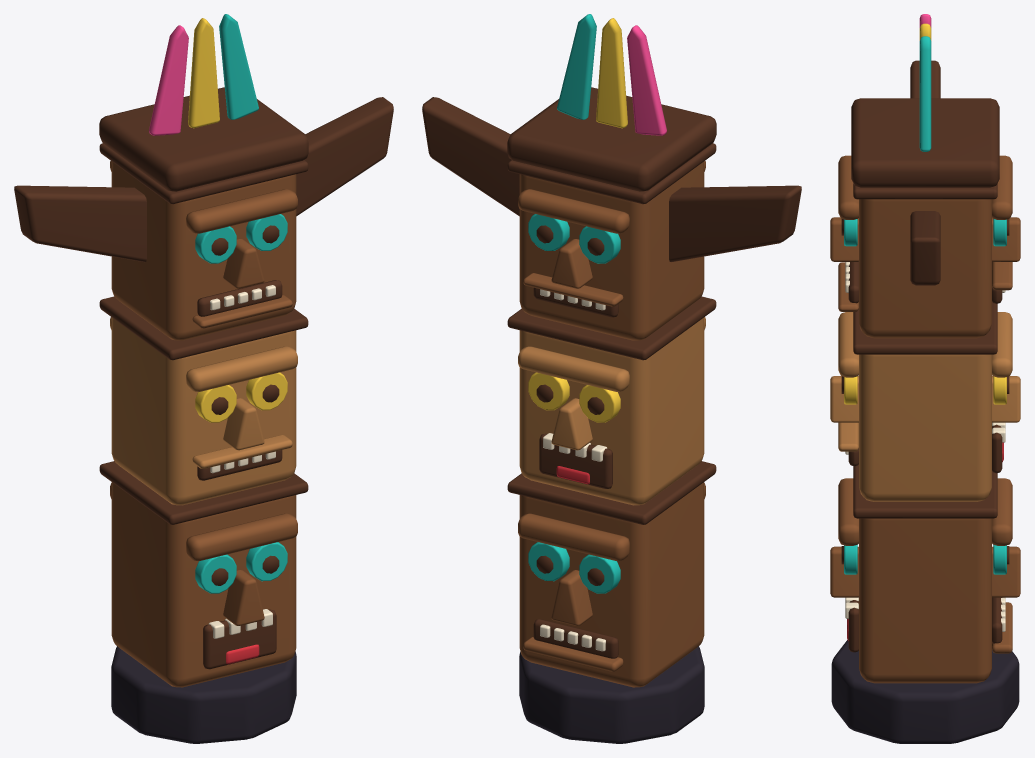
Rendered from lava_totem.glb.
The picture shows the model from 3 angles, left to right: view 1: azimuth 30°, elevation 25°; view 2: azimuth 150°, elevation 25°; view 3: azimuth 270°, elevation 25°; orthographic projection.
Visible parts, largest first — view 1: Totem; view 2: Totem; view 3: Totem.
Part boxes in pixels (bbox=[...]): Totem: bbox=[14, 14, 393, 743]; Totem: bbox=[422, 14, 801, 743]; Totem: bbox=[830, 14, 1020, 743].
Bounding box in the file's own units: 2.23 × 3.97 × 1.
